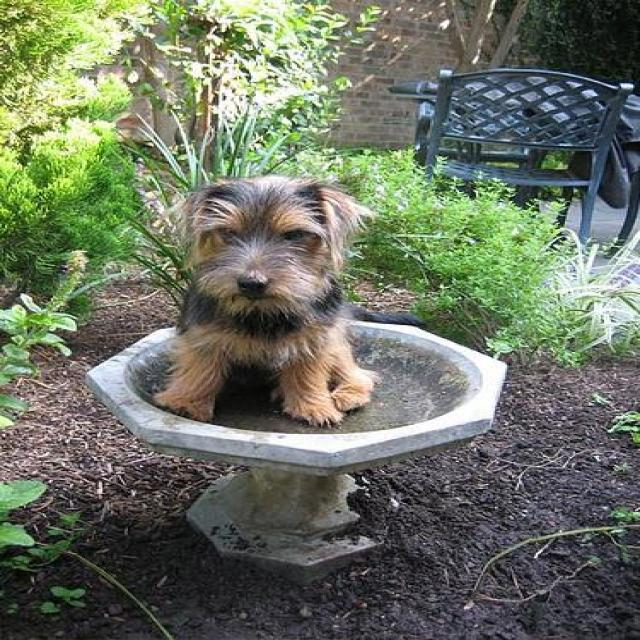dogs: (111, 123, 445, 494)
